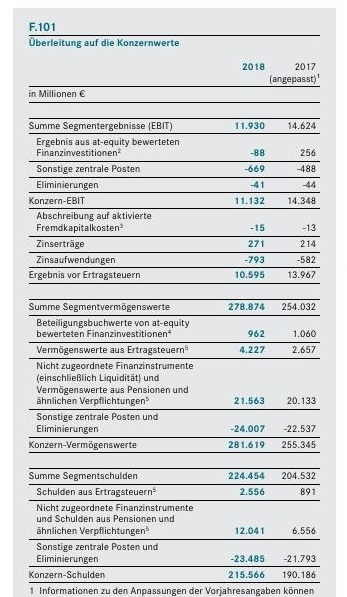table: (0, 0, 347, 597)
